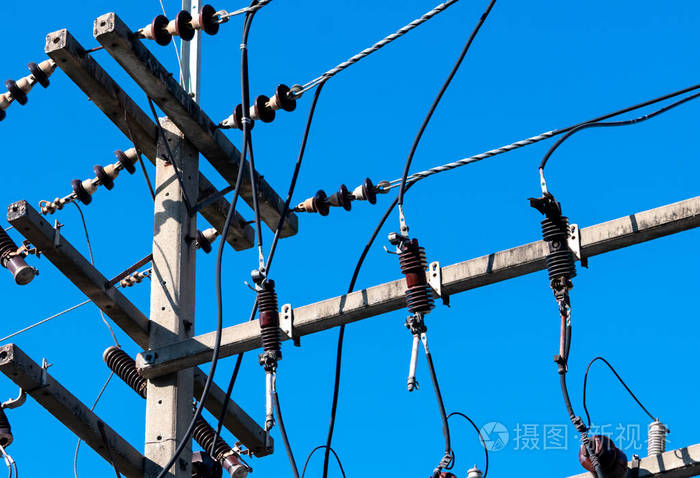insulator: (71, 148, 136, 205), (233, 82, 295, 128), (150, 3, 220, 43), (1, 61, 47, 119), (313, 177, 381, 215)
